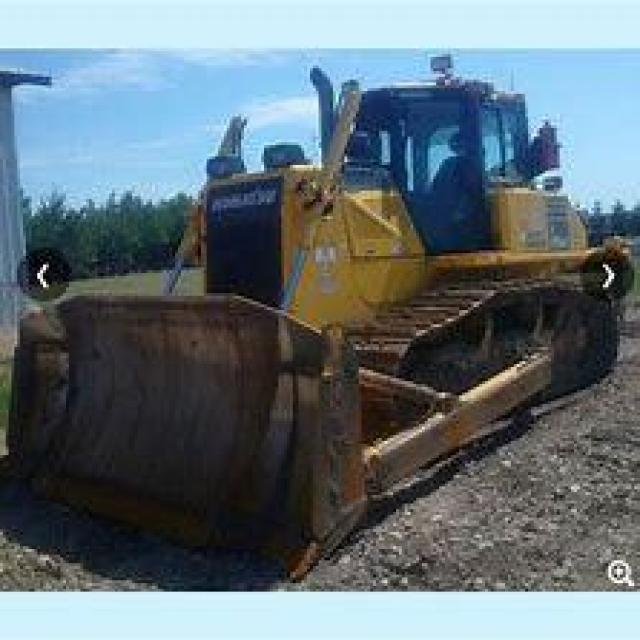Bulldozer: (6, 31, 631, 578)
